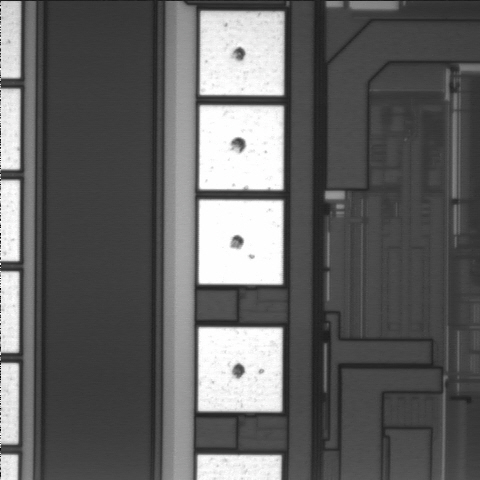pad: (199, 105, 284, 190), (199, 200, 283, 285), (198, 327, 282, 412), (200, 11, 284, 95)
